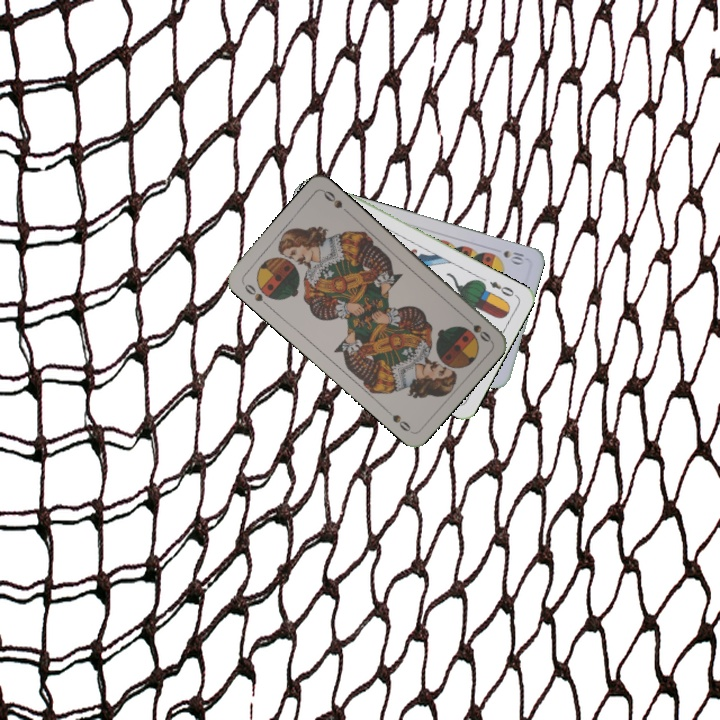EO: (486, 277, 517, 299)
S10: (499, 246, 526, 266)
SO: (460, 313, 494, 345), (238, 278, 272, 310)
